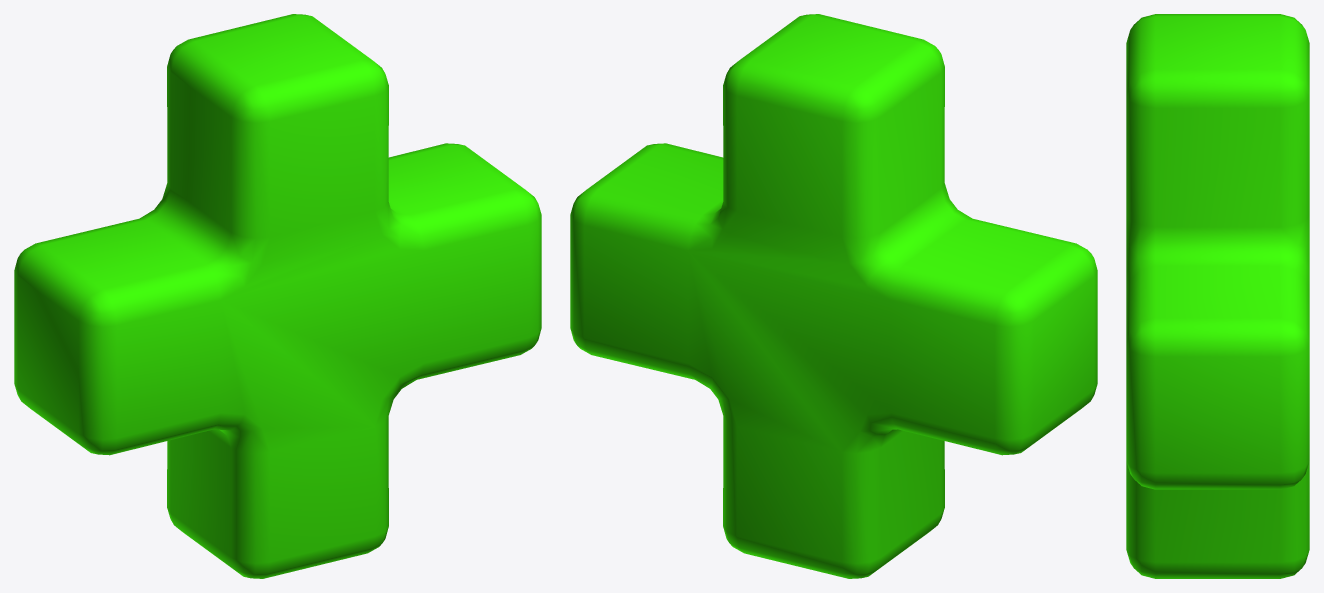
File: Plus.fbx
3 views of the same model, side by side, from view 1: azimuth 30°, elevation 25°; view 2: azimuth 150°, elevation 25°; view 3: azimuth 270°, elevation 25° (orthographic). The views are drawn at different scales.
Parts seen in each view (by area): view 1: Plus; view 2: Plus; view 3: Plus.
Part boxes in pixels (x1,y1,x2,y2): Plus: (14,14,541,578); Plus: (570,14,1097,578); Plus: (1126,14,1309,578).
Size of the model in its own units: 18.72 by 19.15 by 6.27.
